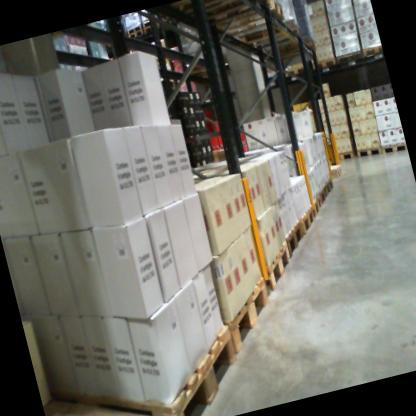pallet: (37, 323, 255, 416), (39, 356, 174, 416), (211, 271, 285, 367), (186, 0, 298, 49), (167, 0, 274, 36), (231, 14, 310, 62), (251, 231, 301, 301), (247, 33, 324, 70), (180, 51, 245, 92), (280, 215, 311, 263), (296, 199, 323, 237), (276, 56, 318, 80), (335, 48, 366, 69), (354, 142, 385, 163), (311, 53, 340, 75), (324, 146, 356, 164), (360, 41, 384, 62), (312, 187, 328, 218), (327, 161, 347, 183), (381, 139, 406, 156), (319, 183, 333, 208), (123, 27, 147, 41), (142, 20, 164, 35), (325, 175, 336, 193)
